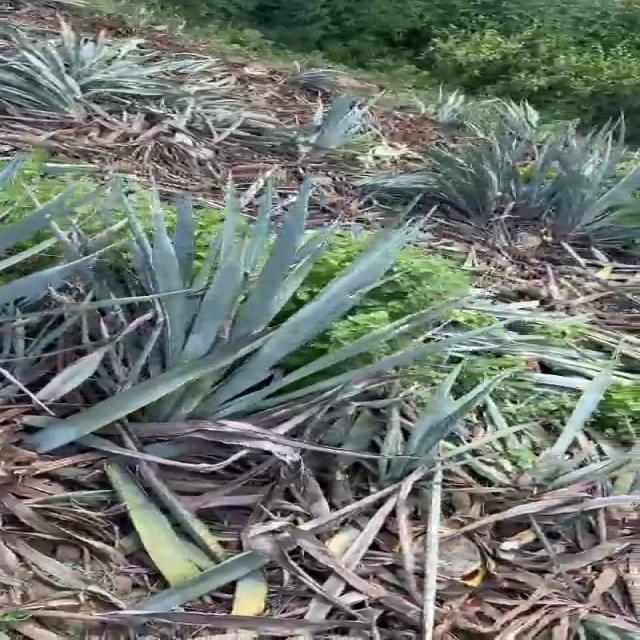agave: (92, 178, 424, 470)
